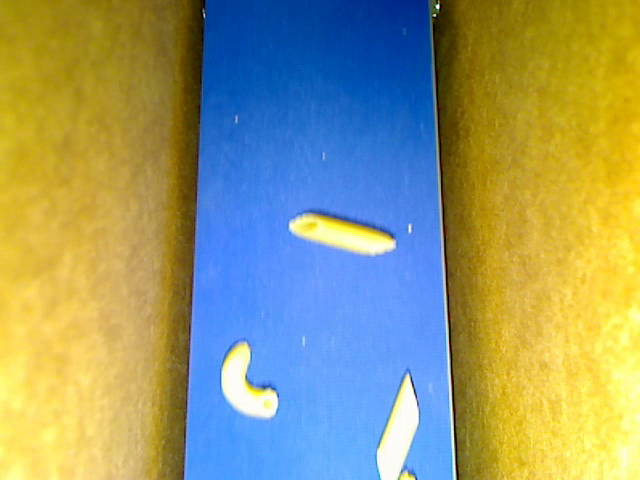elbow: (220, 340, 279, 420)
penne: (376, 370, 420, 479), (290, 212, 395, 257)
